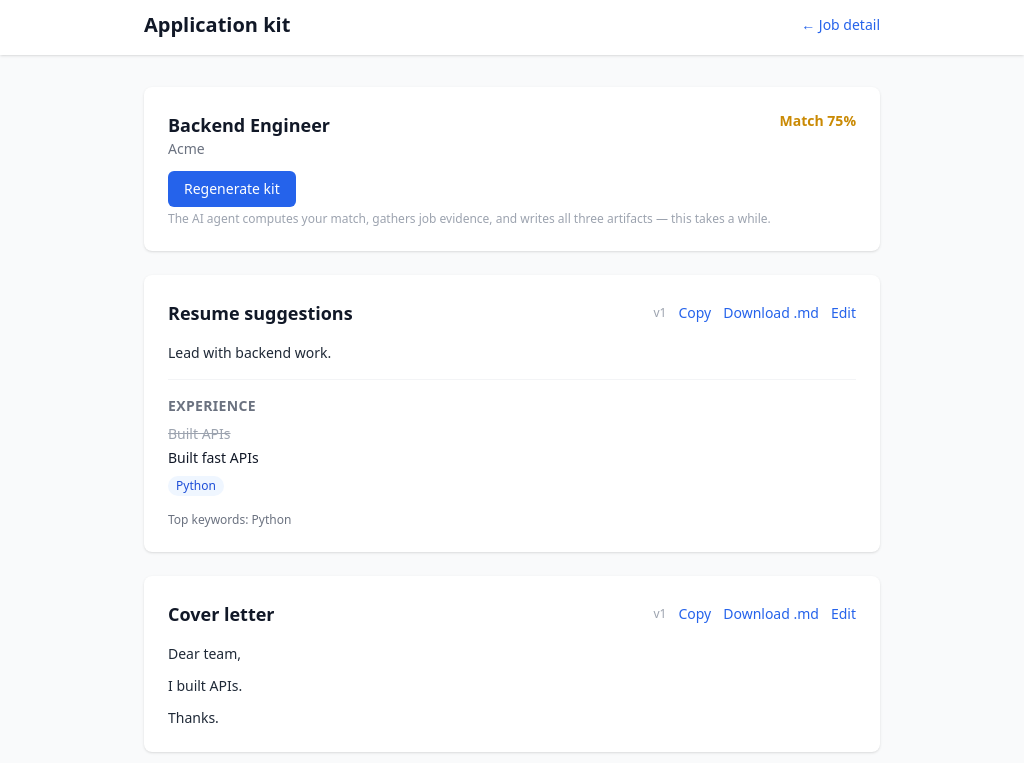
ApplicationKitPage › saves an edited cover letter as a new version
Expected: the heading "Cover letter" is shown, x1=168 y1=600 x2=274 y2=628
// 三張卡各有一個 Edit：順序 tailored → cover → prep。
Step 1. Click the button "Edit" in the row of "Cover letter" → {"x": 843, "y": 614}, box x1=831 y1=604 x2=856 y2=624
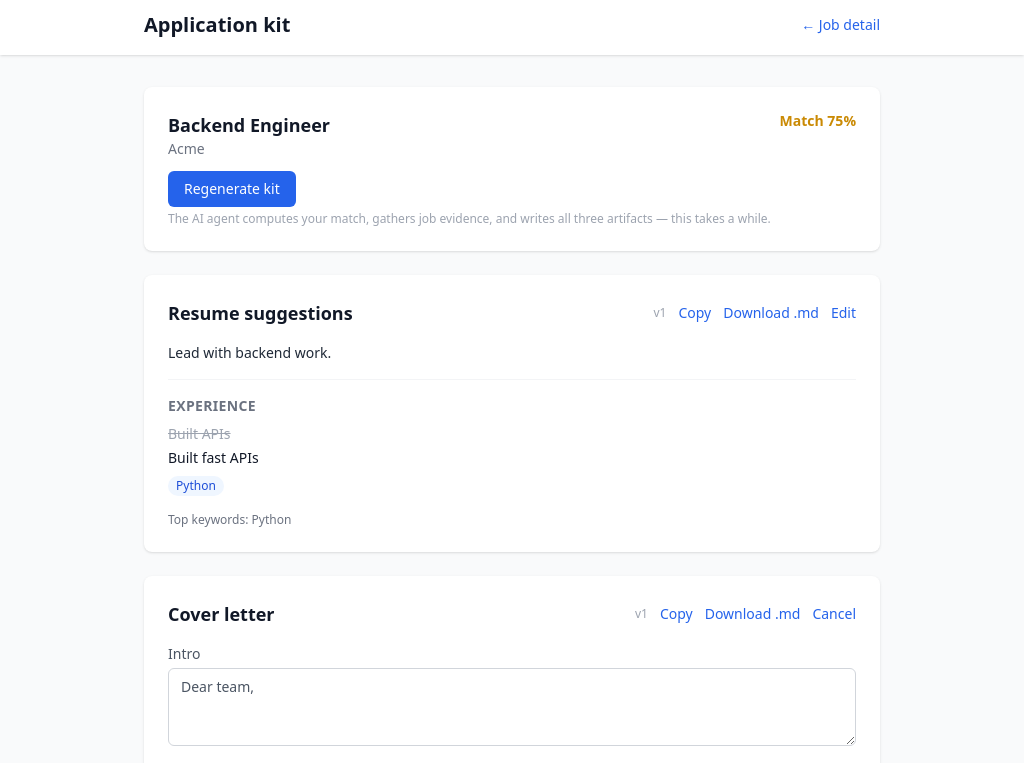
Step 2. Replace the text in the text box labelled "Intro" with "Hi there," → {"x": 512, "y": 707}, box x1=168 y1=668 x2=856 y2=746
(page scrolled)
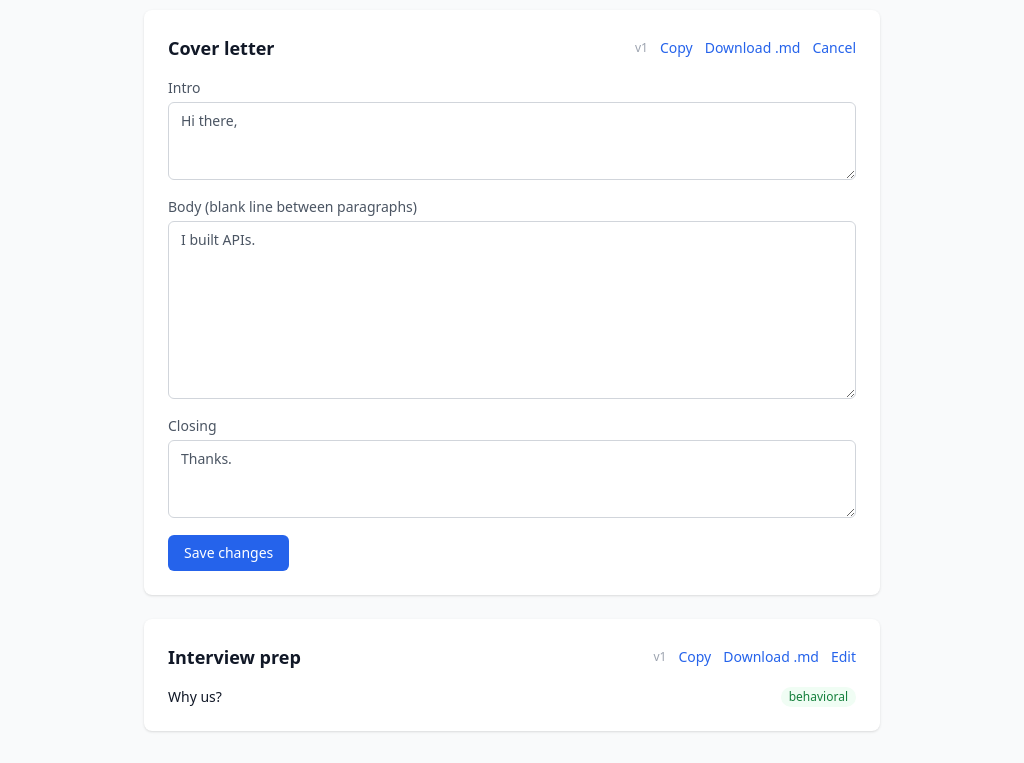
Step 3. Click the button "Save changes" → {"x": 229, "y": 553}, box x1=168 y1=535 x2=289 y2=571
(page scrolled)
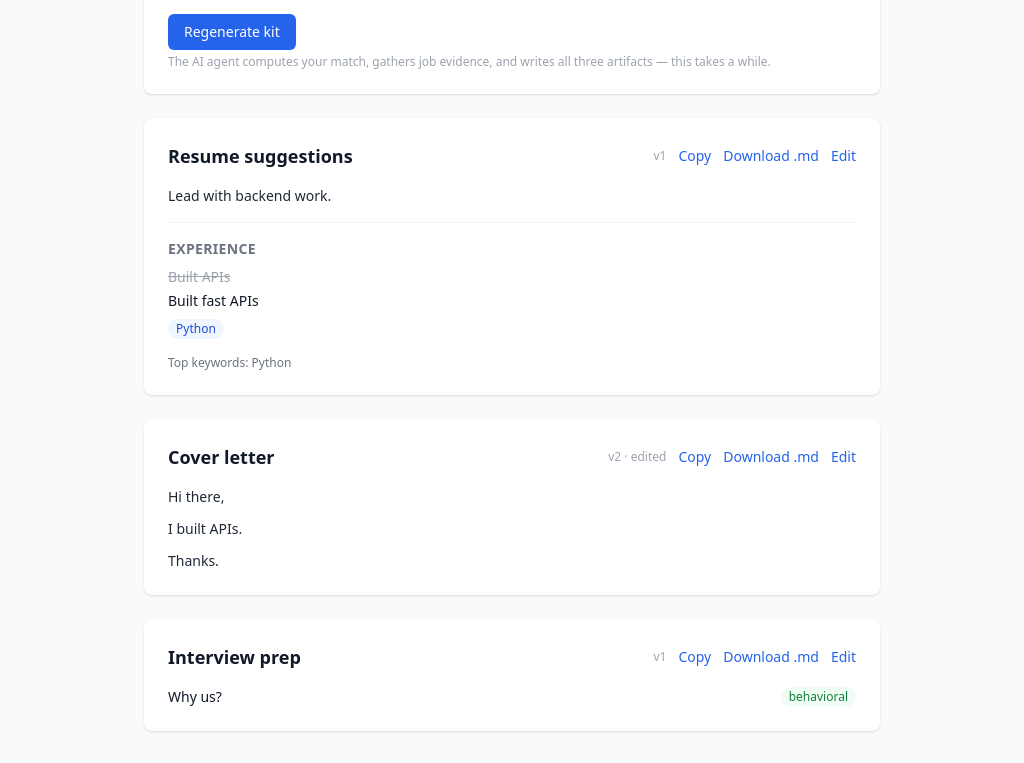
Expected: the text "v2 · edited" is shown, x1=608 y1=449 x2=666 y2=465
Expected: the text "Hi there," is shown, x1=168 y1=487 x2=224 y2=506
